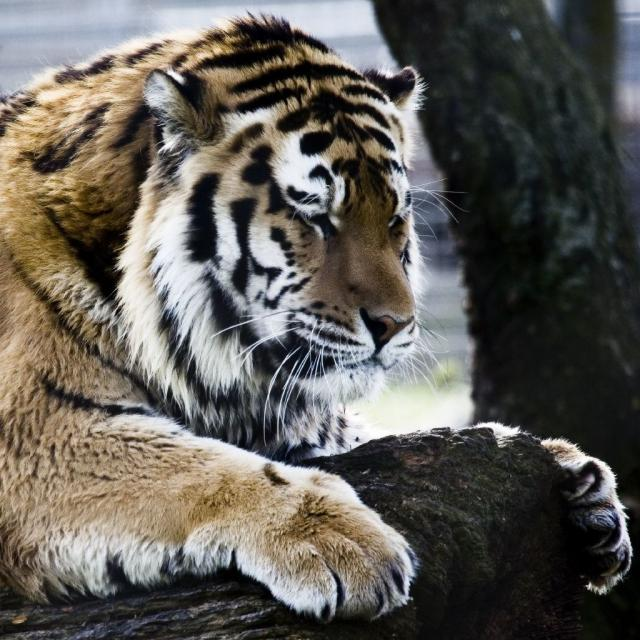Tiger: (0, 5, 636, 627)
